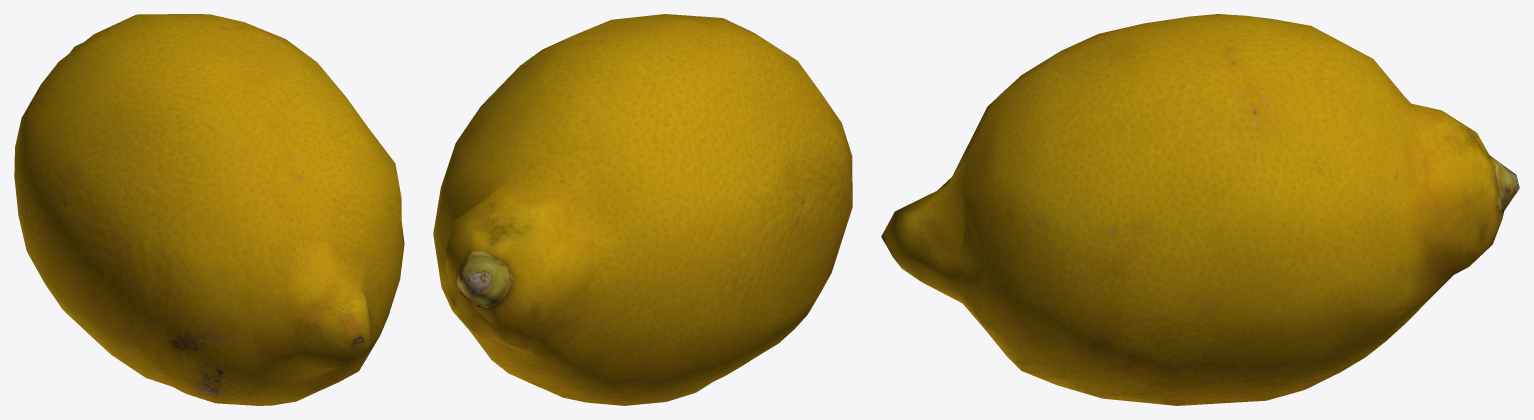
3 renders of one model, left to right at view 1: azimuth 30°, elevation 25°; view 2: azimuth 150°, elevation 25°; view 3: azimuth 270°, elevation 25°, orthographic. The views are drawn at different scales.
Visible parts, largest first — view 1: Lemon; view 2: Lemon; view 3: Lemon.
Boxes of the visible parts, x1=… form: Lemon: x1=14, y1=14, x2=404, y2=405; Lemon: x1=433, y1=14, x2=852, y2=405; Lemon: x1=881, y1=14, x2=1519, y2=405.
Bounding box in the file's own units: 6.19 × 6.27 × 10.48.
Materials: 1 (1 with a texture image).
